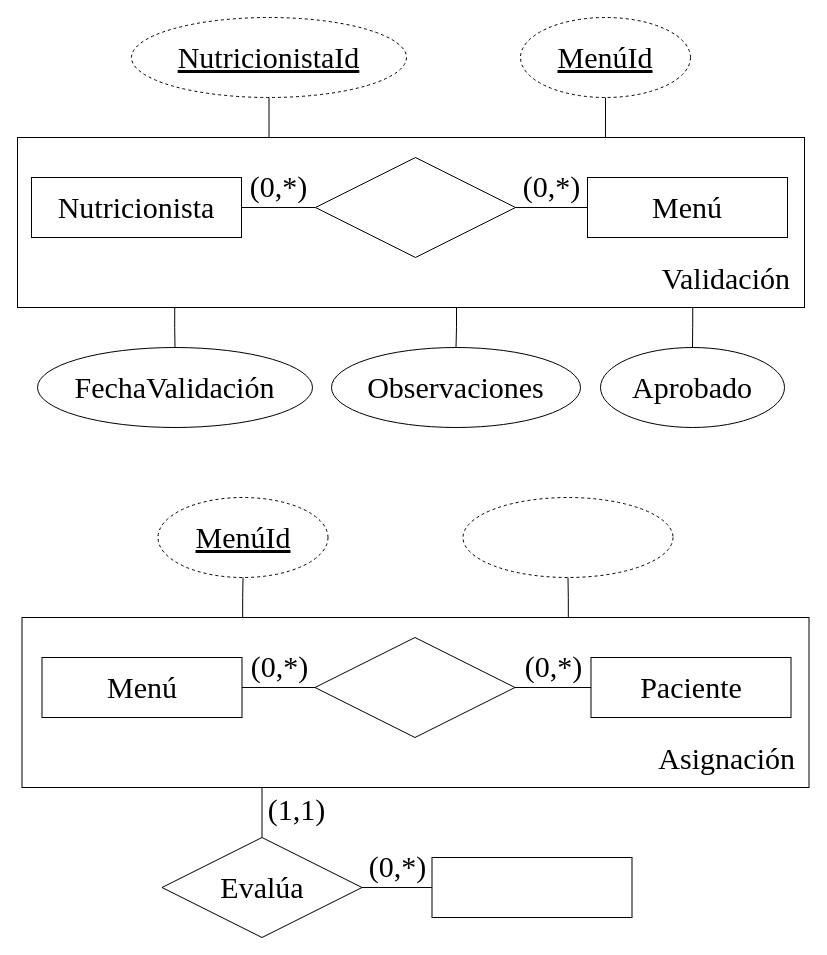
Image size: 827x955. Some labels were removed from this diagram. Each missing label, with the centre of its shape:
"Asigna" goes at pixel 414 687.
"PacienteId" goes at pixel 567 537.
"Valida" goes at pixel 415 207.
"Valoración" goes at pixel 531 887.
